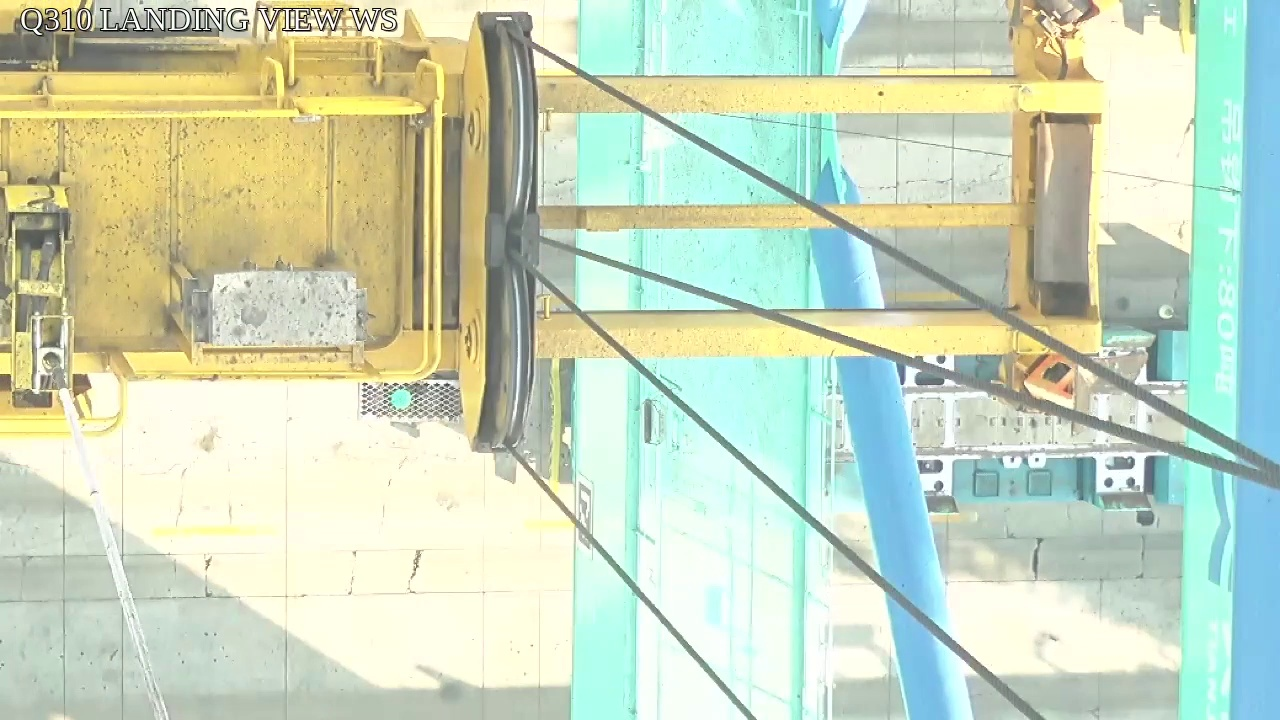right: (462, 11, 543, 453)
